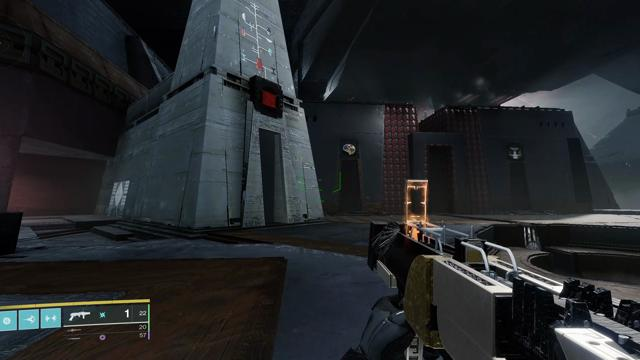brain: (342, 142, 357, 157)
drink: (508, 145, 523, 159)
stop: (259, 87, 279, 112)
